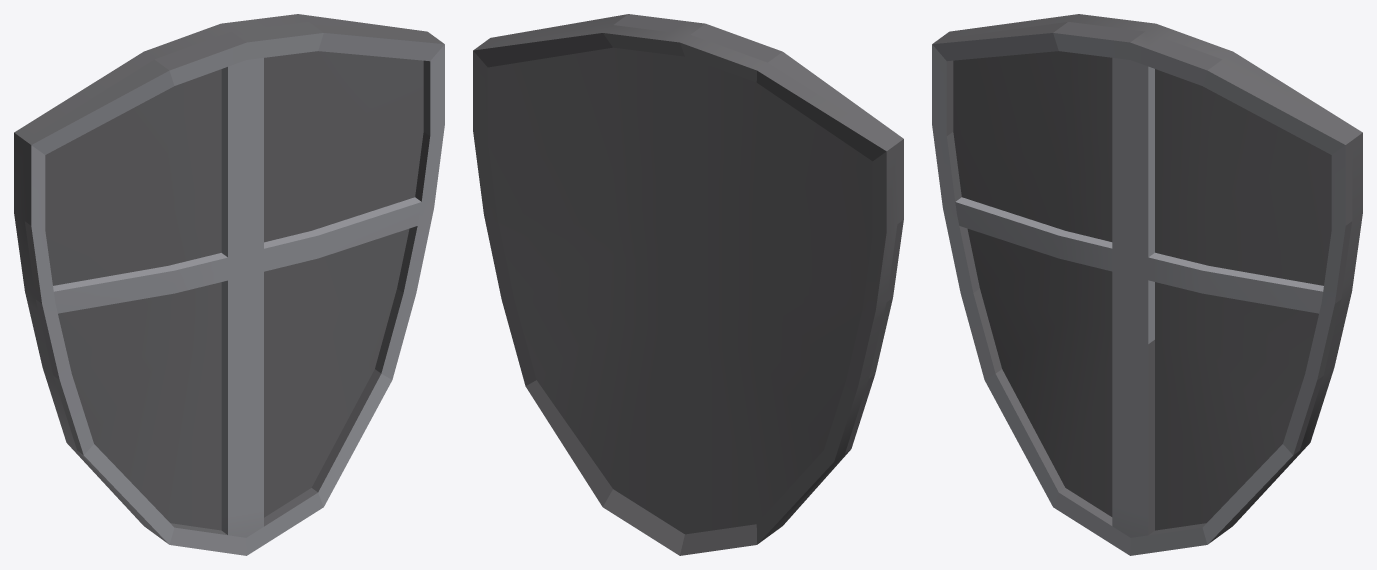
The model's file is Shield.fbx.
3 views of the same model, side by side, from view 1: azimuth 30°, elevation 25°; view 2: azimuth 150°, elevation 25°; view 3: azimuth 330°, elevation 25° (orthographic).
Visible parts, largest first — view 1: pPlane10; view 2: pPlane10; view 3: pPlane10.
Boxes of the visible parts, x1=… form: pPlane10: x1=14, y1=14, x2=444, y2=555; pPlane10: x1=473, y1=14, x2=903, y2=555; pPlane10: x1=932, y1=14, x2=1362, y2=555.
Size of the model in its own units: 263 by 311 by 28.38.
